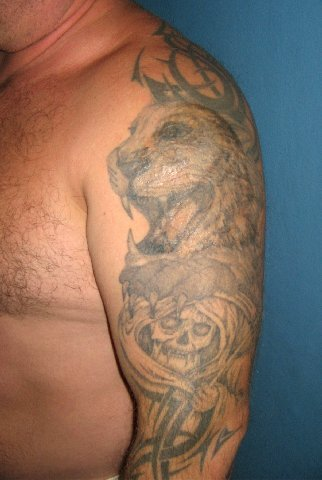tatu5_tigr: (98, 101, 260, 310)
